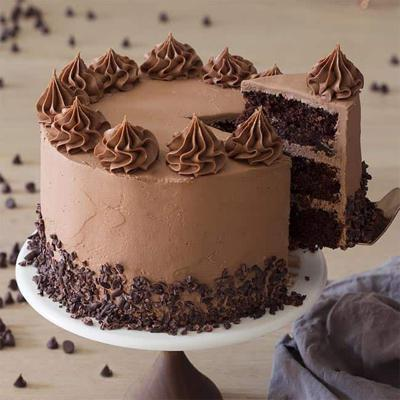cake: (31, 31, 365, 334)
